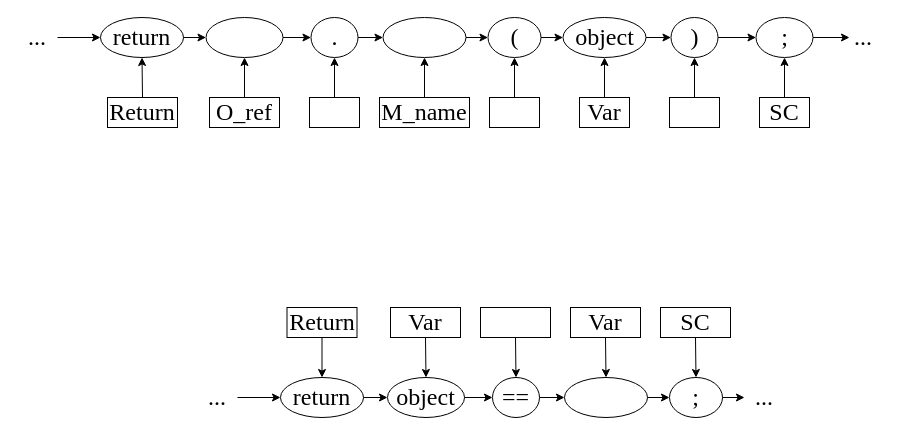
Image size: 900x435. Some labels were removed from this diagram. The shapes that lost their labels are listed below. From the top down, each one's box as (x1, y1, x2, y2) in pixels, then its label:
(205, 16, 283, 58): super
(382, 16, 466, 58): equals
(308, 96, 360, 128): DOT
(488, 96, 540, 128): LB
(668, 96, 720, 128): RB
(480, 306, 550, 338): EQ
(564, 376, 648, 418): this
